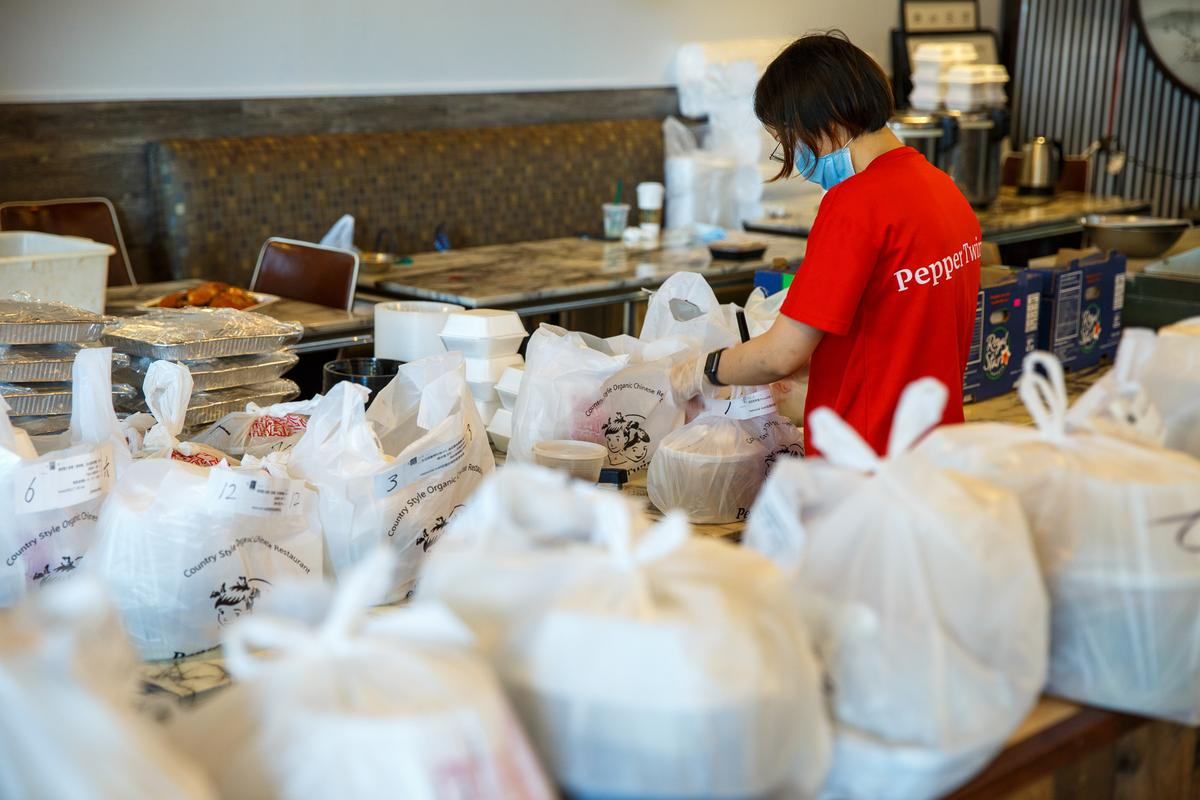mask: (765, 102, 864, 191)
